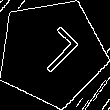L_SW: (23, 24, 81, 81)
